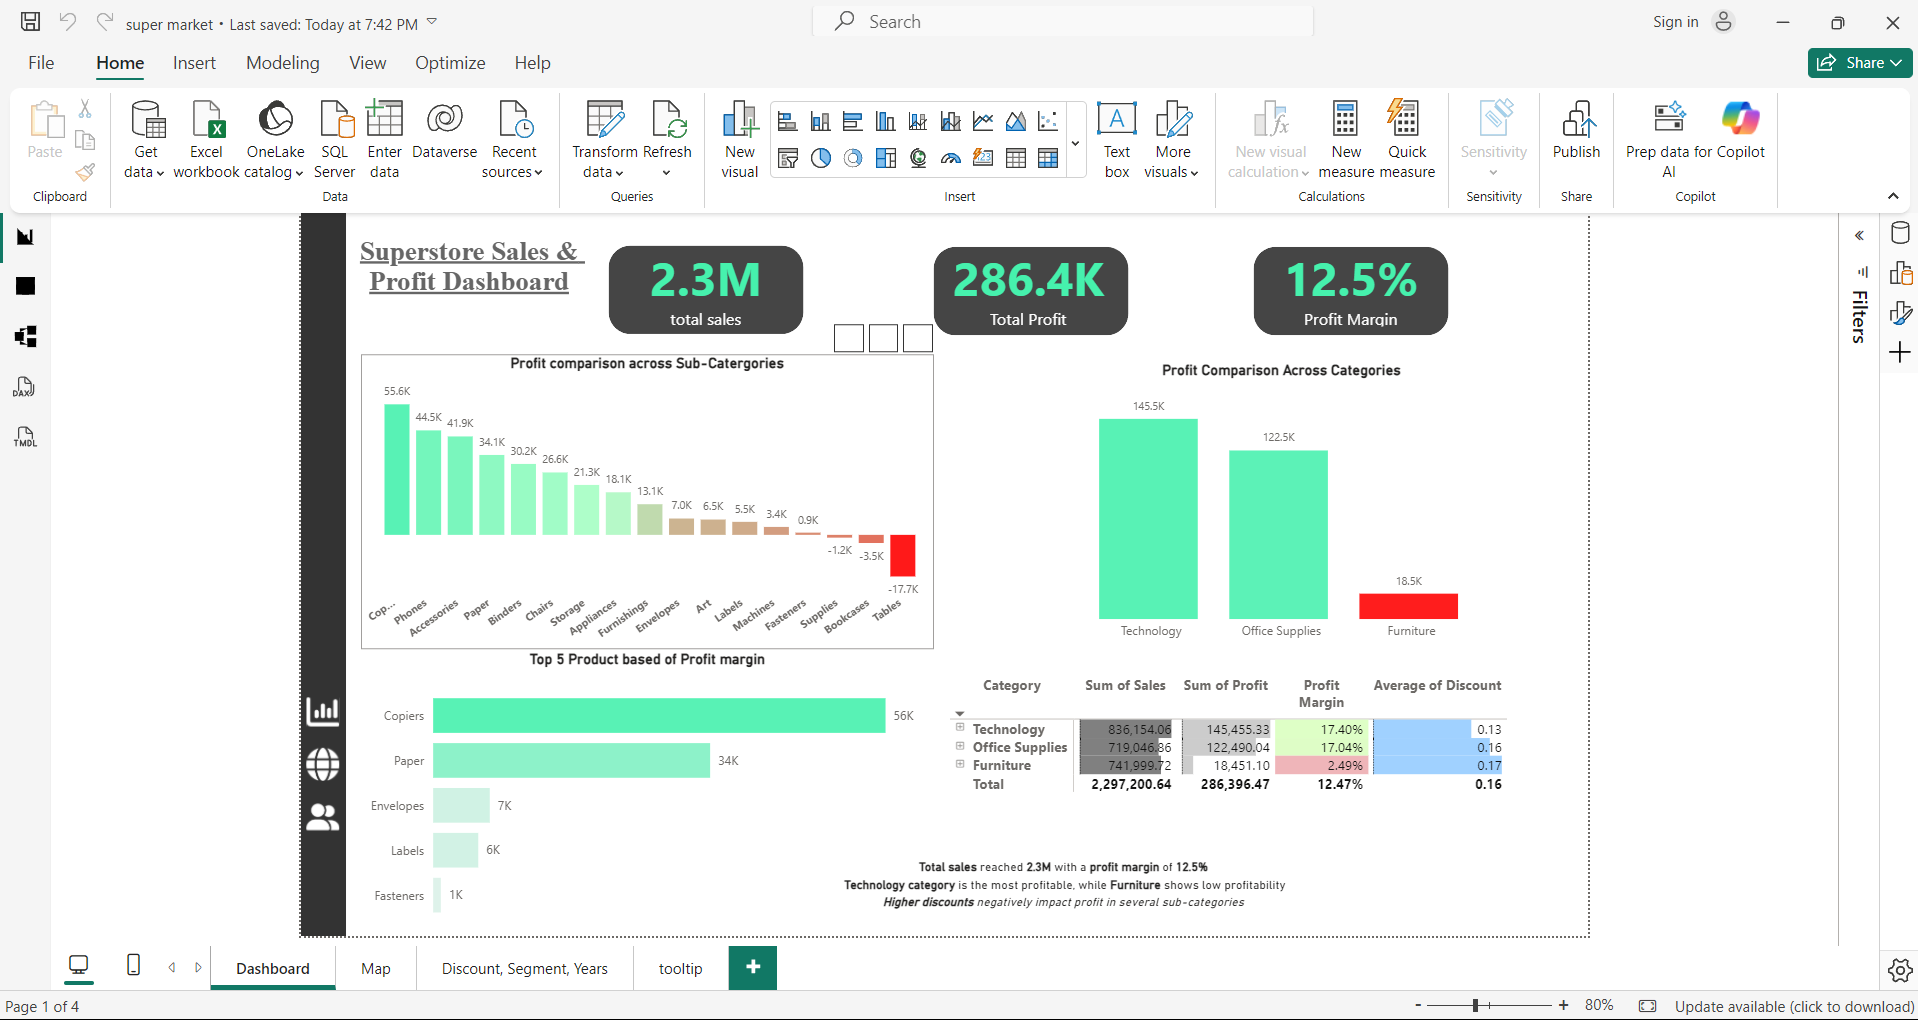

The page's visual inventory and layout, read from the dashboard file:
{"tool":"powerbi","page":{"name":"Dashboard ","canvas":[1280,720],"ordinal":0},"visuals":[{"type":"textbox","box":[45,0,245,280],"z":0},{"type":"card","fields":{"Values":["Sample - Superstore.total sales"]},"box":[293.6,29.9,218.9,88.3],"z":0,"group":"g2"},{"type":"shape","box":[306,32.3,194.1,88.3],"z":0,"group":"g1"},{"type":"actionButton","box":[1.7,475.2,41.1,42.3],"z":0,"group":"g3"},{"type":"group","id":"g1","title":"KPI SHAPES","box":[0,0,1142,720.3],"z":1000},{"type":"card","fields":{"Values":["Sample - Superstore.Profit Margin"]},"box":[935.5,29.9,218.9,88.3],"z":1000,"group":"g2"},{"type":"shape","box":[947.9,33.6,194.1,88.3],"z":1000,"group":"g1"},{"type":"actionButton","box":[1.7,579.7,41.1,42.3],"z":1000,"group":"g3"},{"type":"group","id":"g2","title":"KPI SHAPES","box":[293.6,29.9,860.8,88.3],"z":2000},{"type":"card","fields":{"Values":["Sample - Superstore.Total Profit"]},"box":[614.5,29.9,218.9,88.3],"z":2000,"group":"g2"},{"type":"shape","box":[629.4,33.6,194.1,88.3],"z":2000,"group":"g1"},{"type":"actionButton","box":[1.7,527.4,41.1,42.3],"z":2000,"group":"g3"},{"type":"shape","box":[0,0,45,720.3],"z":3000,"group":"g1"},{"type":"columnChart","title":"Profit Comparison Across Categories","fields":{"Category":["Sample - Superstore.Category"],"Y":["Sum(Sample - Superstore.Profit)"]},"box":[737.5,147.5,476.2,286.2],"z":3000},{"type":"pivotTable","fields":{"Rows":["Sample - Superstore.Category","Sample - Superstore.Sub-Category"],"Values":["Sum(Sample - Superstore.Sales)","Sum(Sample - Superstore.Profit)","Sample - Superstore.Profit Margin","Avg(Sample - Superstore.Discount)"]},"box":[641.2,455,612.5,245],"z":4000},{"type":"clusteredColumnChart","title":"Profit comparison across Sub-Catergories","fields":{"Category":["Sample - Superstore.Sub-Category"],"Y":["Sum(Sample - Superstore.Profit)"]},"box":[59.7,140.6,569.7,293.6],"z":5000},{"type":"clusteredBarChart","title":"Top 5 Product based of Profit margin","fields":{"Category":["Sample - Superstore.Sub-Category"],"Y":["Sum(Sample - Superstore.Profit)"]},"box":[60,435,570,285],"z":6000},{"type":"textbox","box":[237.6,635.7,1042.4,64.7],"z":7000},{"type":"group","id":"g3","title":"navigation","box":[1.7,475.2,41.1,146.8],"z":7001}]}

Visuals, with their boxes on the page's 1280x720 design canvas (x1, y1, x2, y2). These are canvas units, not pixel positions in the 1918x1020 screenshot, which may show the page scaled, cropped or inside an application window:
textbox: (left=45, top=0, right=290, bottom=280)
card - Sample - Superstore.total sales: (left=294, top=30, right=512, bottom=118)
shape: (left=306, top=32, right=500, bottom=121)
actionButton: (left=2, top=475, right=43, bottom=518)
"KPI SHAPES" group: (left=0, top=0, right=1142, bottom=720)
card - Sample - Superstore.Profit Margin: (left=936, top=30, right=1154, bottom=118)
shape: (left=948, top=34, right=1142, bottom=122)
actionButton: (left=2, top=580, right=43, bottom=622)
"KPI SHAPES" group: (left=294, top=30, right=1154, bottom=118)
card - Sample - Superstore.Total Profit: (left=614, top=30, right=833, bottom=118)
shape: (left=629, top=34, right=824, bottom=122)
actionButton: (left=2, top=527, right=43, bottom=570)
shape: (left=0, top=0, right=45, bottom=720)
"Profit Comparison Across Categories" columnChart: (left=738, top=148, right=1214, bottom=434)
pivotTable - Sample - Superstore.Category x Sample - Superstore.Sub-Category: (left=641, top=455, right=1254, bottom=700)
"Profit comparison across Sub-Catergories" clusteredColumnChart: (left=60, top=141, right=629, bottom=434)
"Top 5 Product based of Profit margin" clusteredBarChart: (left=60, top=435, right=630, bottom=720)
textbox: (left=238, top=636, right=1280, bottom=700)
"navigation" group: (left=2, top=475, right=43, bottom=622)
